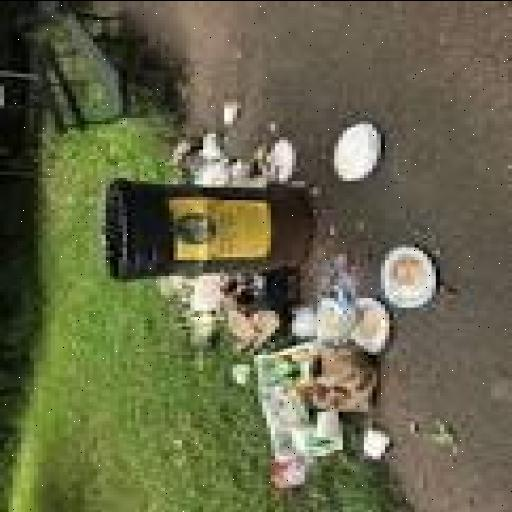poubelle_vide: (82, 168, 314, 284)
